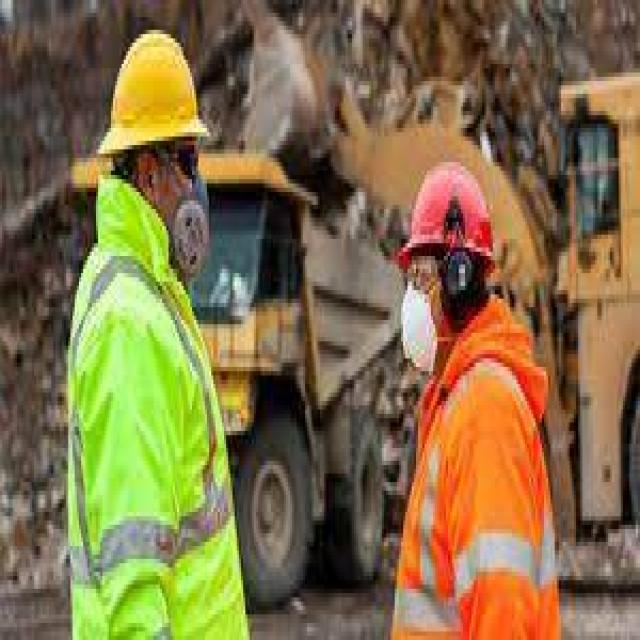glasses: (162, 146, 202, 186)
